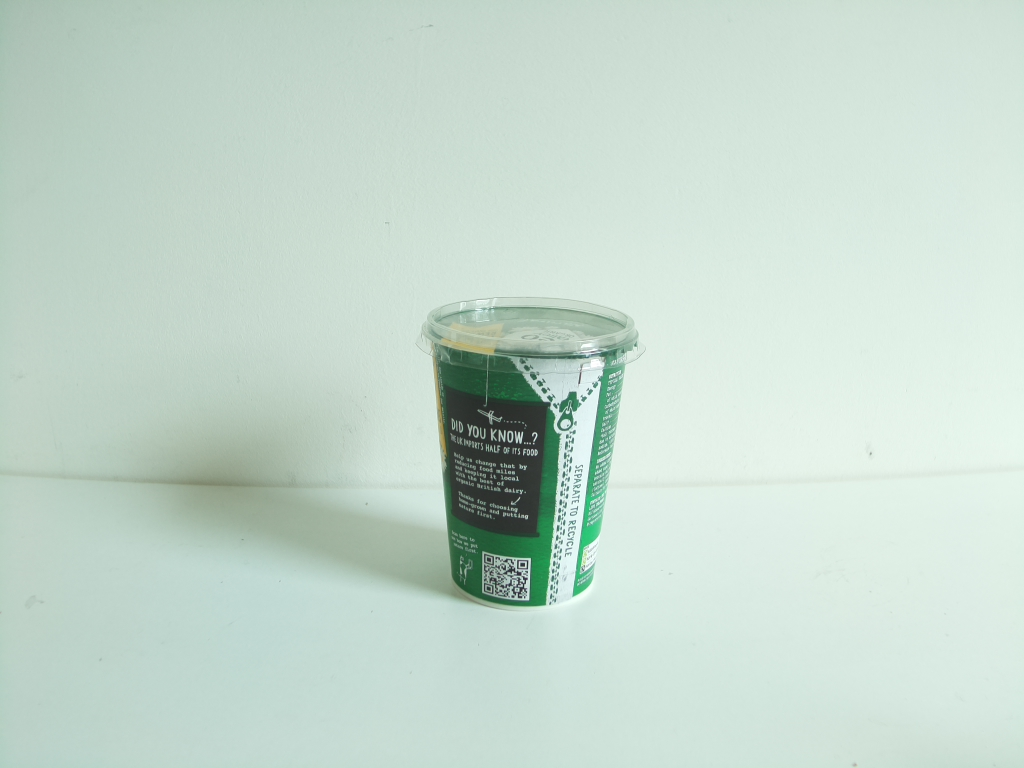yogurt: (410, 294, 649, 617)
